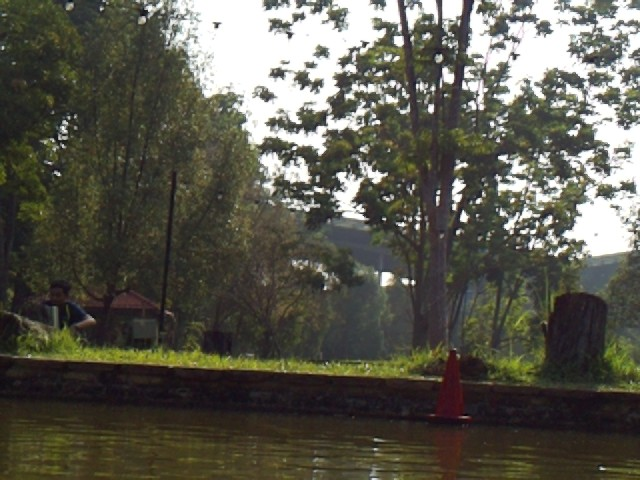obstacle: (426, 348, 472, 426)
